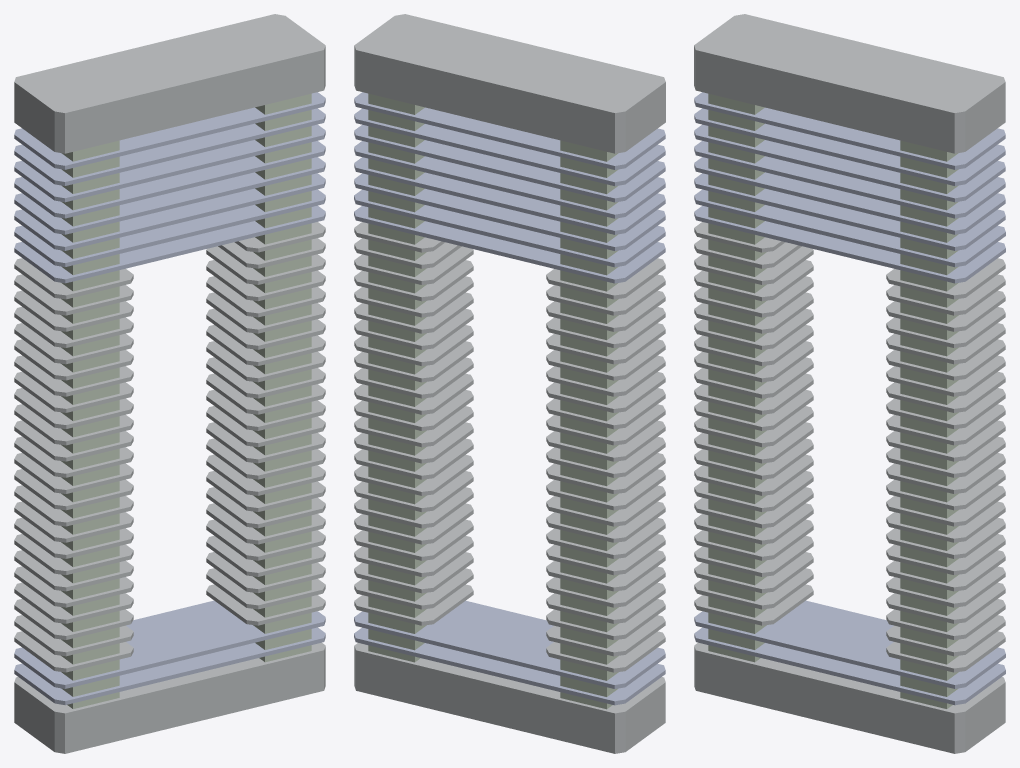
File: city6.glb
3 views of the same model, side by side, from view 1: azimuth 30°, elevation 25°; view 2: azimuth 150°, elevation 25°; view 3: azimuth 330°, elevation 25° (orthographic).
Visible parts, largest first — view 1: Mesh_Mesh_head_geo.001_lambert2SG.001; view 2: Mesh_Mesh_head_geo.001_lambert2SG.001; view 3: Mesh_Mesh_head_geo.001_lambert2SG.001.
Part boxes in pixels (x1,y1,x2,y2): Mesh_Mesh_head_geo.001_lambert2SG.001: (14,14,325,753); Mesh_Mesh_head_geo.001_lambert2SG.001: (354,14,665,753); Mesh_Mesh_head_geo.001_lambert2SG.001: (694,14,1005,753).
Bounding box in the file's own units: 70.02 × 158 × 22.06.
